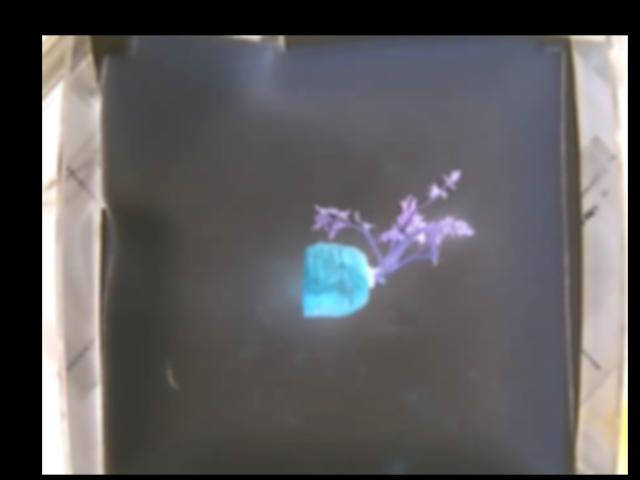Carrot: (303, 169, 476, 316)
